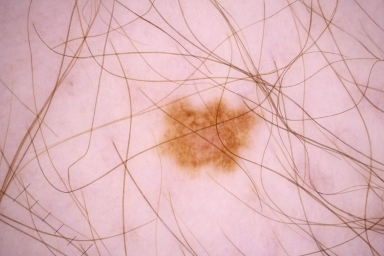melanoma: (158, 99, 256, 170)
